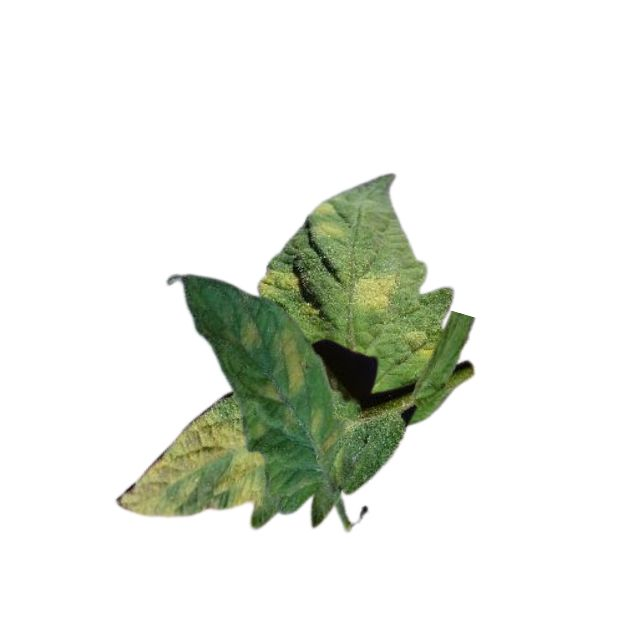Leaf_Mold: (116, 408, 266, 517), (346, 270, 397, 316), (276, 326, 305, 396), (309, 198, 345, 242), (258, 266, 297, 302), (405, 325, 440, 362), (240, 315, 262, 354)
